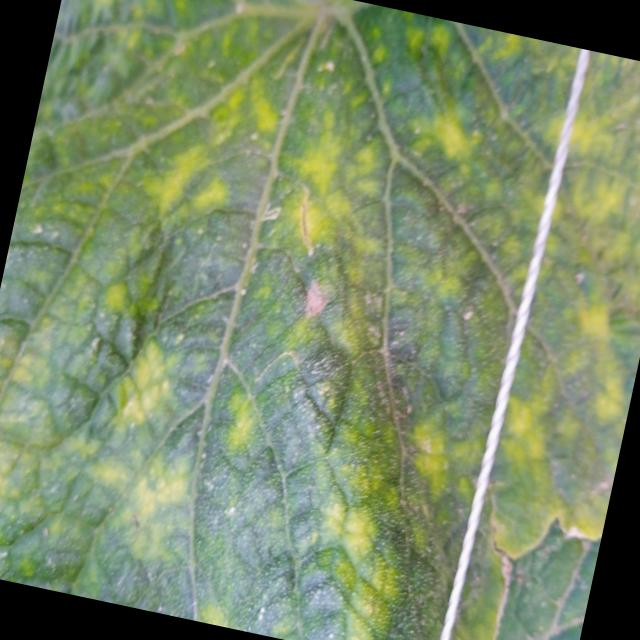cucumber_downy: (0, 0, 562, 640), (444, 56, 640, 640)
